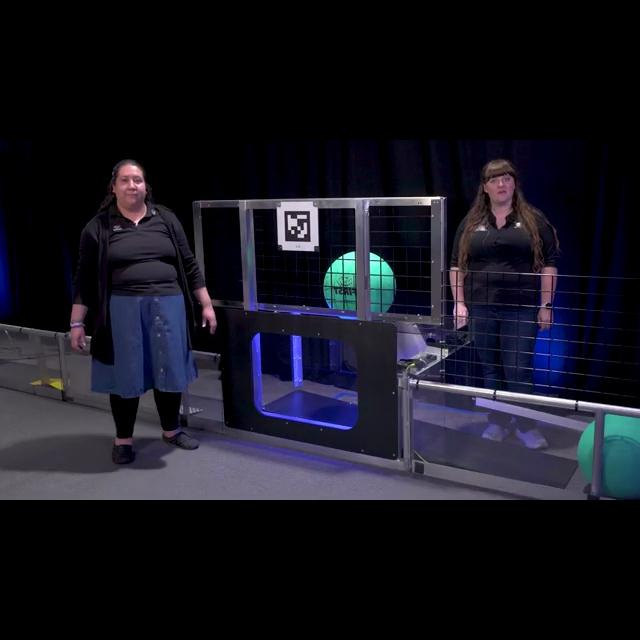ALGAE: (576, 412, 640, 498), (323, 250, 397, 314)
